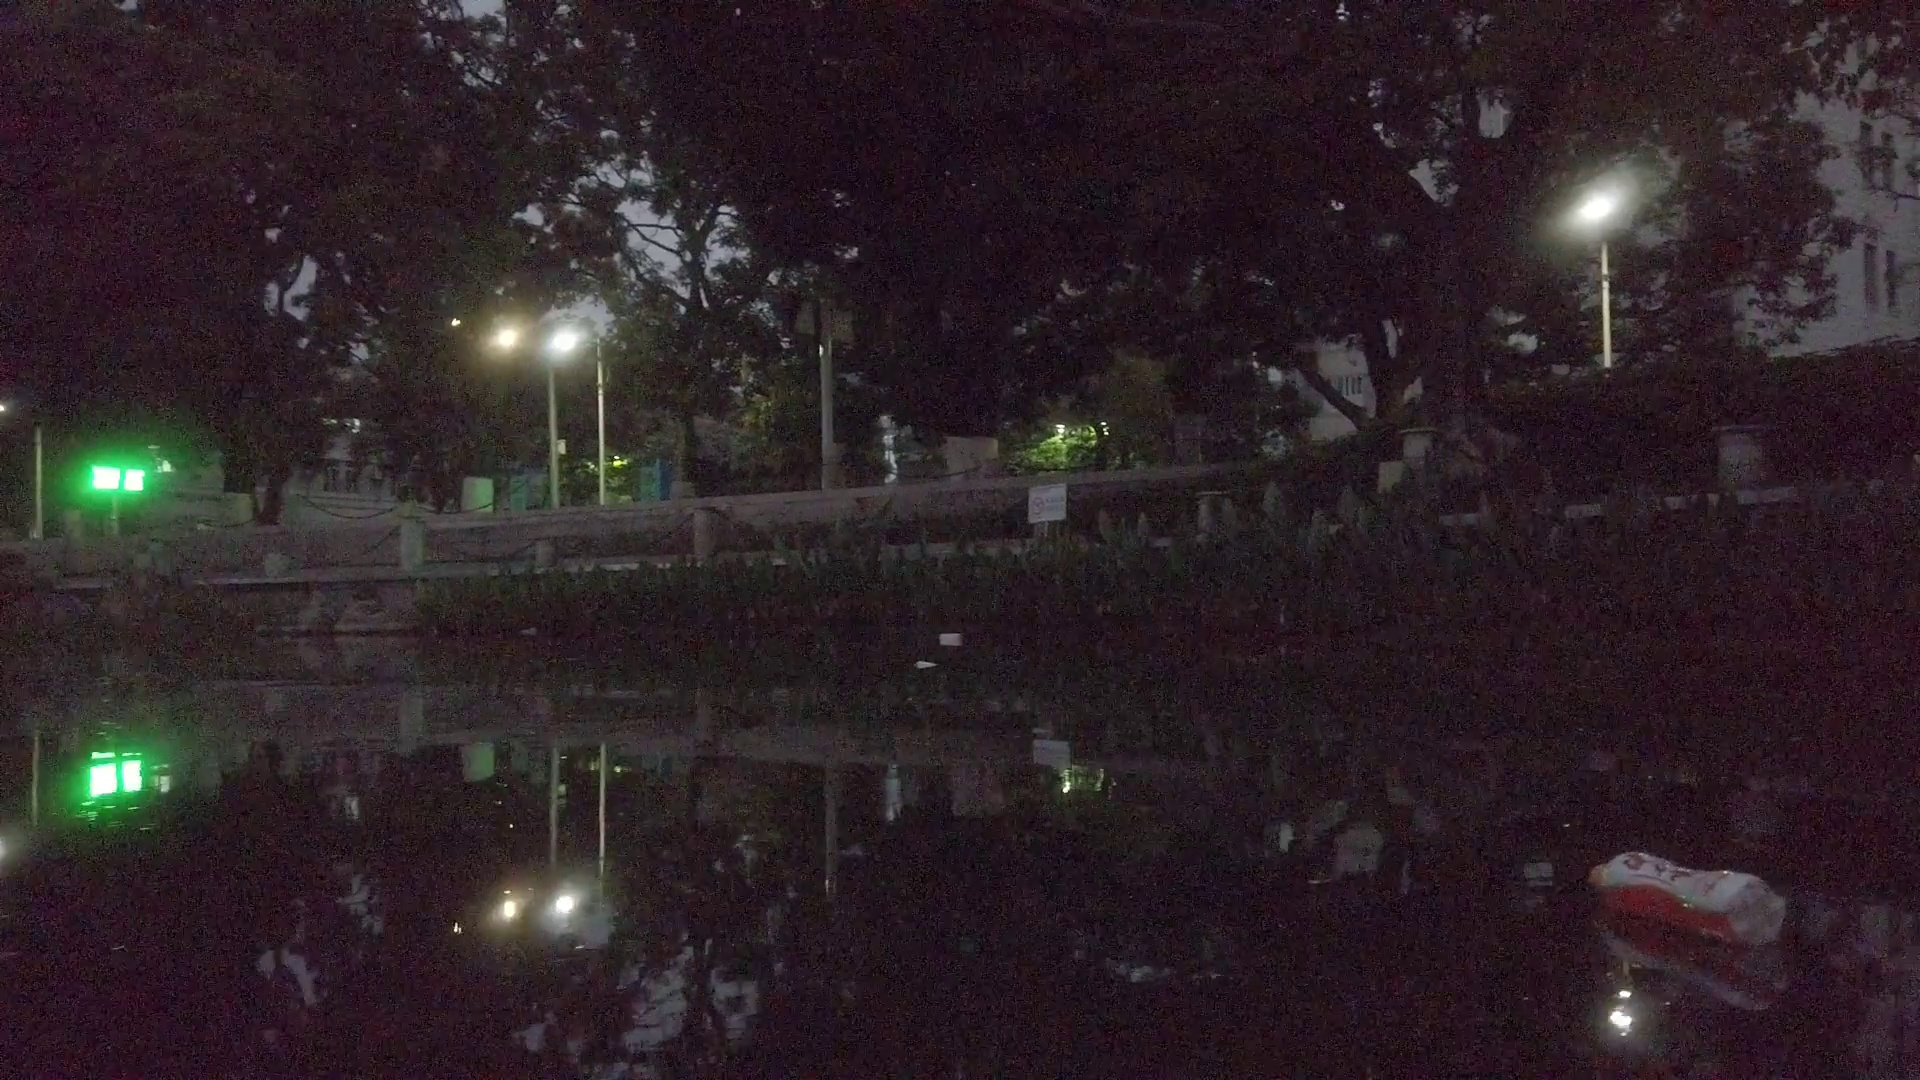bottle: (1586, 847, 1785, 945)
carton: (938, 630, 963, 647)
paper: (913, 655, 936, 674)
